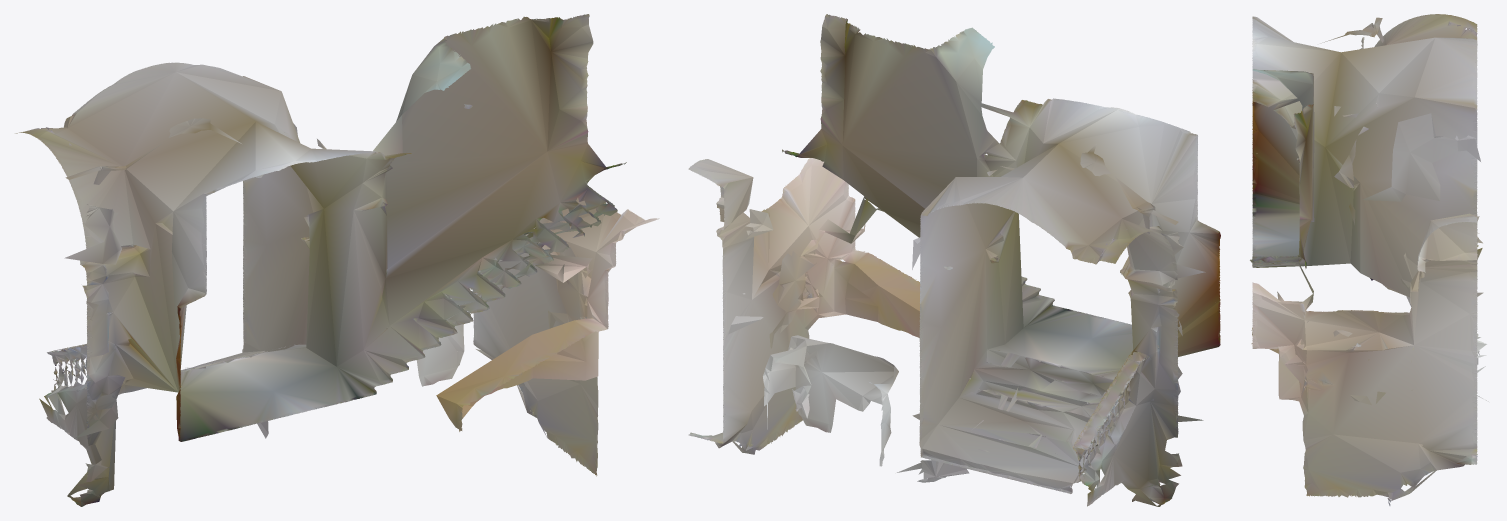
The picture shows the model from 3 angles, left to right: view 1: azimuth 30°, elevation 25°; view 2: azimuth 150°, elevation 25°; view 3: azimuth 270°, elevation 25°; orthographic projection. The views are drawn at different scales.
Bounding box in the file's own units: 10.57 × 9.11 × 5.42.
